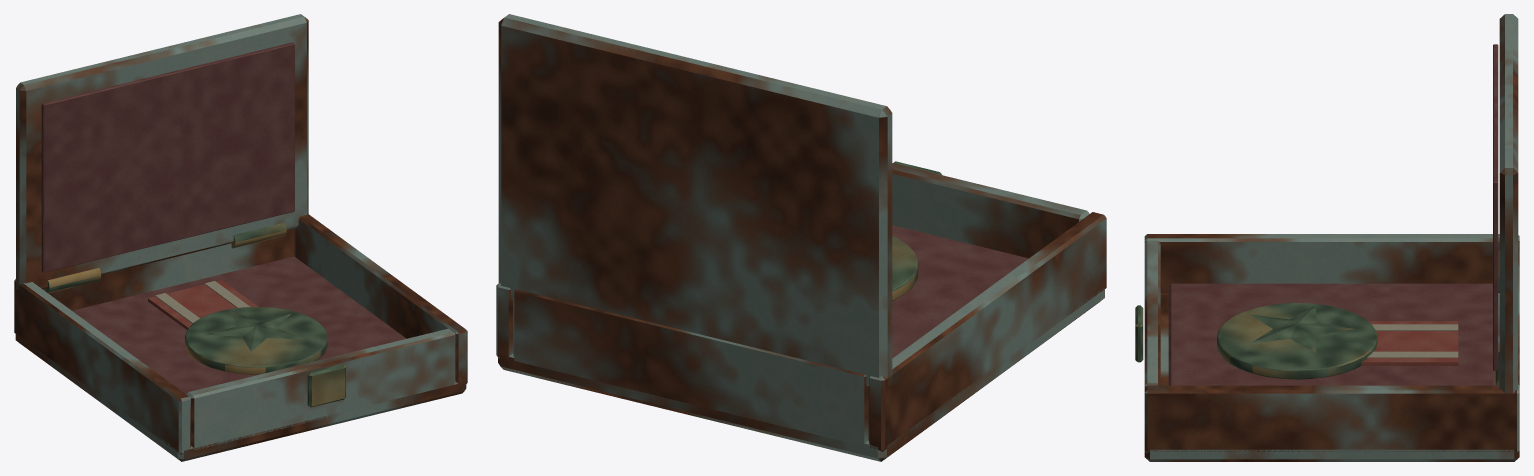
File: medal_case_aged.glb
3 views of the same model, side by side, from view 1: azimuth 30°, elevation 25°; view 2: azimuth 150°, elevation 25°; view 3: azimuth 270°, elevation 25° (orthographic). The views are drawn at different scales.
Visible parts, largest first — view 1: LidLining, Lid, Lining, Front, SideL, SideR, Medal, Back, CaseFloor, Ribbon, MedalStar, FrontClasp (+2 smaller); view 2: Lid, Back, SideL, Front, Lining, CaseFloor, Medal, SideR; view 3: SideR, Lining, SideL, Medal, Lid, CaseFloor, Ribbon, Front, LidLining, MedalStar, RibbonStripe.001, RibbonStripe (+1 smaller).
Part boxes in pixels (left/top/right/bottom): LidLining: left=41, top=42, right=294, bottom=272; Lid: left=16, top=14, right=308, bottom=290; Lining: left=72, top=256, right=406, bottom=394; Front: left=186, top=328, right=455, bottom=449; SideL: left=14, top=279, right=190, bottom=454; SideR: left=295, top=214, right=467, bottom=385; Medal: left=185, top=307, right=327, bottom=374; Back: left=43, top=228, right=295, bottom=310; CaseFloor: left=15, top=333, right=466, bottom=461; Ribbon: left=148, top=280, right=258, bottom=329; MedalStar: left=206, top=311, right=303, bottom=351; FrontClasp: left=307, top=364, right=345, bottom=407; Lid: left=498, top=14, right=892, bottom=386; Back: left=513, top=289, right=868, bottom=446; SideL: left=868, top=212, right=1106, bottom=451; Front: left=892, top=163, right=1089, bottom=258; Lining: left=892, top=225, right=1028, bottom=358; CaseFloor: left=498, top=288, right=1104, bottom=461; Medal: left=892, top=236, right=918, bottom=301; SideR: left=496, top=283, right=512, bottom=359; SideR: left=1144, top=385, right=1519, bottom=453; Lining: left=1168, top=283, right=1495, bottom=385; SideL: left=1144, top=234, right=1519, bottom=292; Medal: left=1217, top=303, right=1377, bottom=379; Lid: left=1499, top=14, right=1518, bottom=393; CaseFloor: left=1144, top=293, right=1519, bottom=461; Ribbon: left=1361, top=321, right=1458, bottom=365; Front: left=1144, top=240, right=1160, bottom=387; LidLining: left=1493, top=44, right=1498, bottom=370; MedalStar: left=1250, top=305, right=1355, bottom=352; RibbonStripe.001: left=1367, top=351, right=1458, bottom=357; RibbonStripe: left=1372, top=324, right=1458, bottom=330.
Size of the model in its own units: 0.14 by 0.121 by 0.1435.
5 materials, 5 textured.
